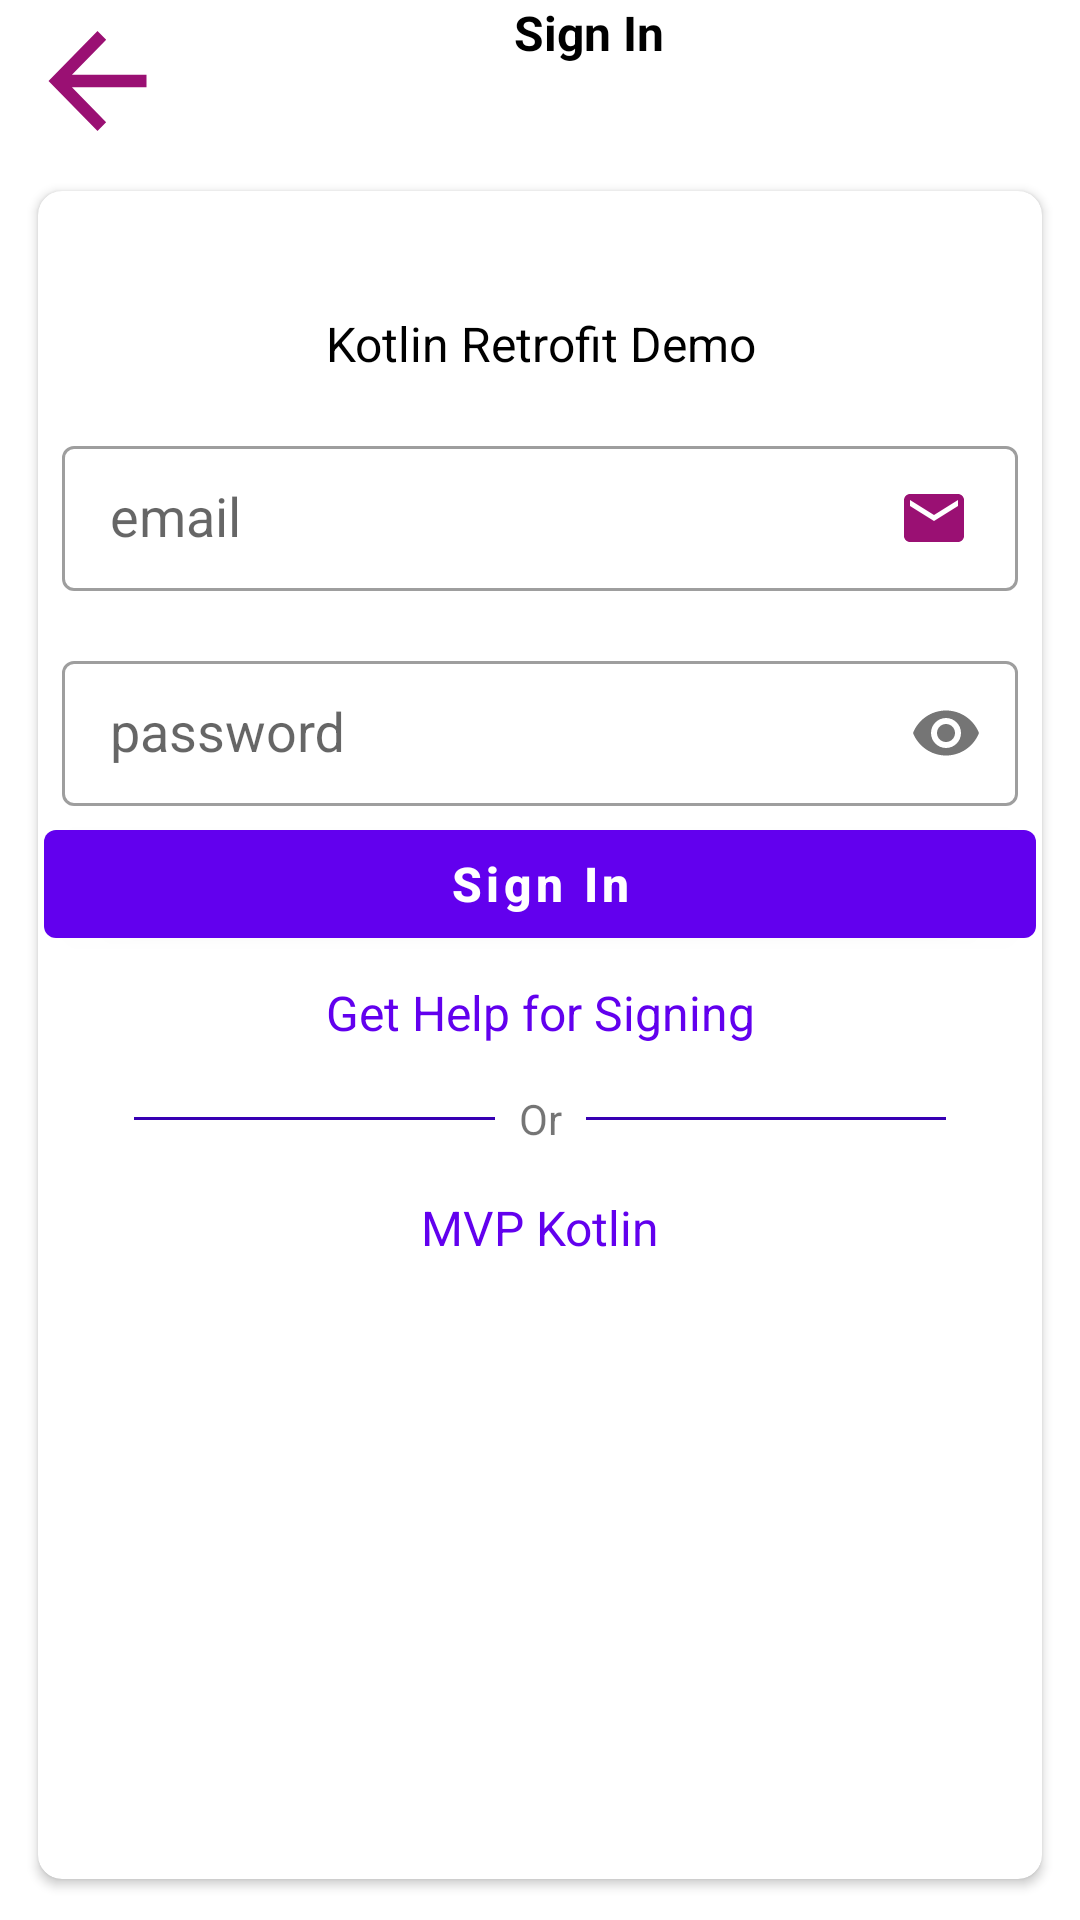

Where to tap for icons on this 1080px×1920px app screen, as (x,y):
arrow: (97,81)
